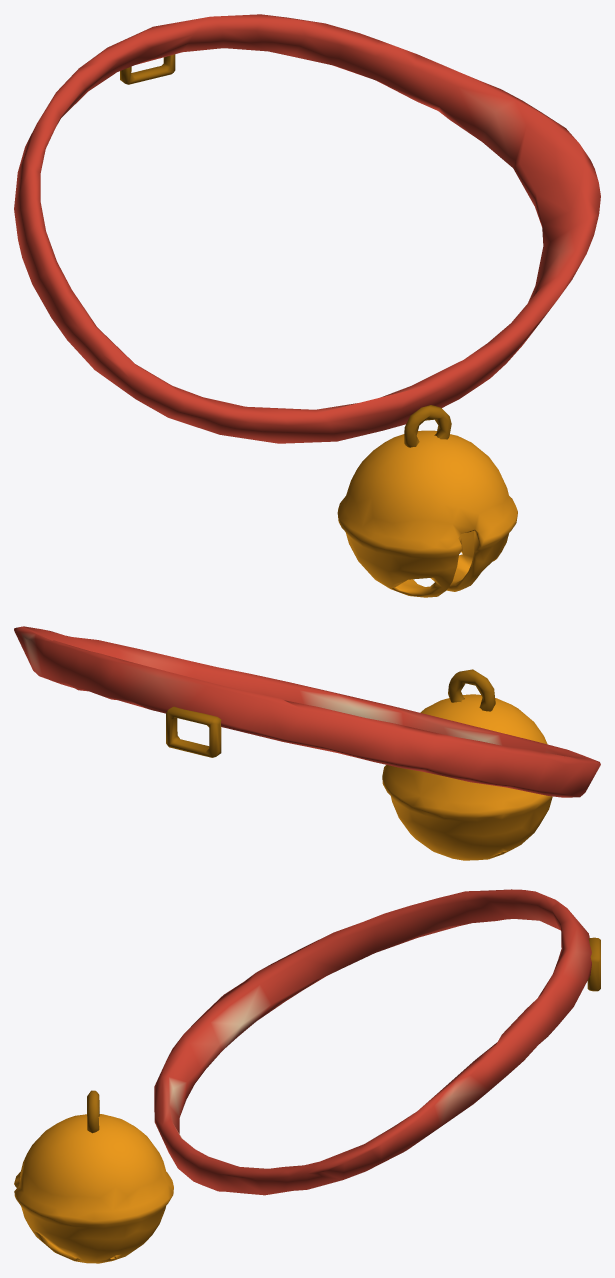
The model's file is chuong.glb.
3 renders of one model, top to bottom at view 1: azimuth 30°, elevation 25°; view 2: azimuth 150°, elevation 25°; view 3: azimuth 270°, elevation 25°, orthographic. The views are drawn at different scales.
Parts seen in each view (by area): view 1: Vong_Da, Chuong, Khoen, Khoa_Vong; view 2: Vong_Da, Chuong, Khoa_Vong, Khoen; view 3: Vong_Da, Chuong, Khoa_Vong, Khoen.
Boxes of the visible parts, <box> form: Vong_Da: <box>14,14,600,443</box>; Chuong: <box>337,430,517,597</box>; Khoen: <box>404,405,451,447</box>; Khoa_Vong: <box>120,54,175,84</box>; Vong_Da: <box>14,626,600,797</box>; Chuong: <box>382,694,552,860</box>; Khoa_Vong: <box>166,706,221,757</box>; Khoen: <box>448,669,495,711</box>; Vong_Da: <box>154,889,591,1195</box>; Chuong: <box>14,1114,173,1263</box>; Khoa_Vong: <box>587,937,600,991</box>; Khoen: <box>87,1090,99,1133</box>.
Bounding box in the file's own units: 0.2294 × 0.1494 × 0.2429.
